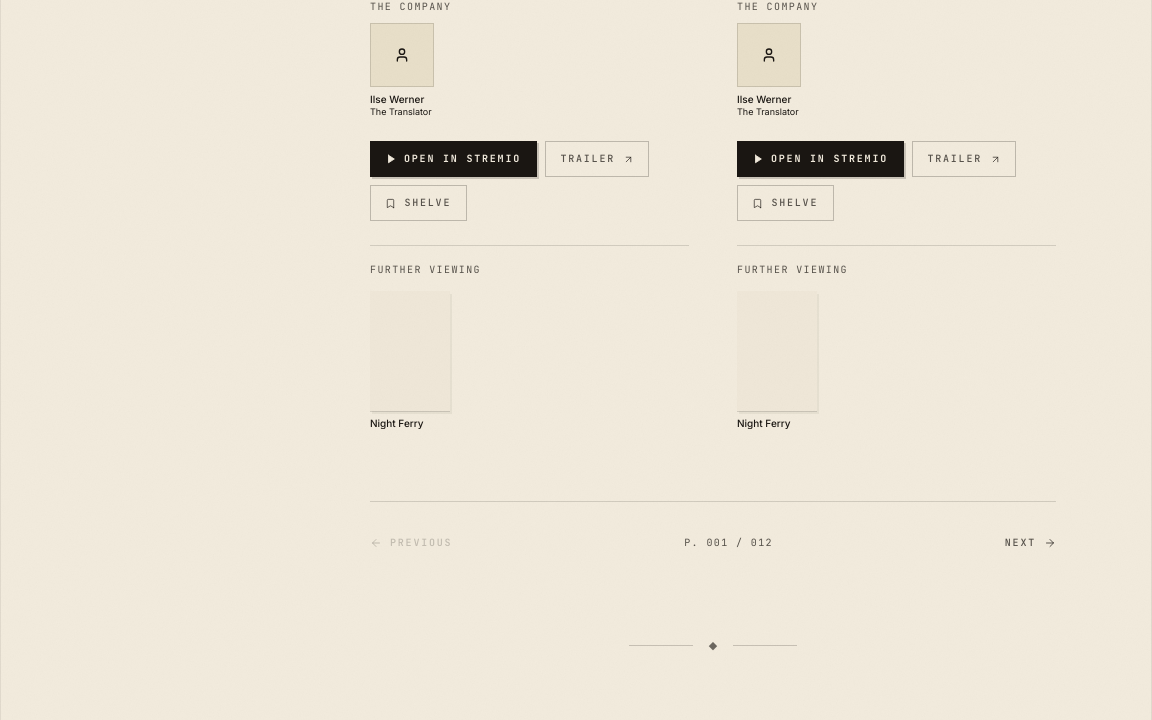
Test: Cabinet › keeps the shelve state with the title on screen after a drill-down
This screenshot has width=1152, height=720.
(page scrolled)
Click the button with aria-label "Read the entry for Night Ferry" at (410, 360), box [370,291,450,429]
(page scrolled)
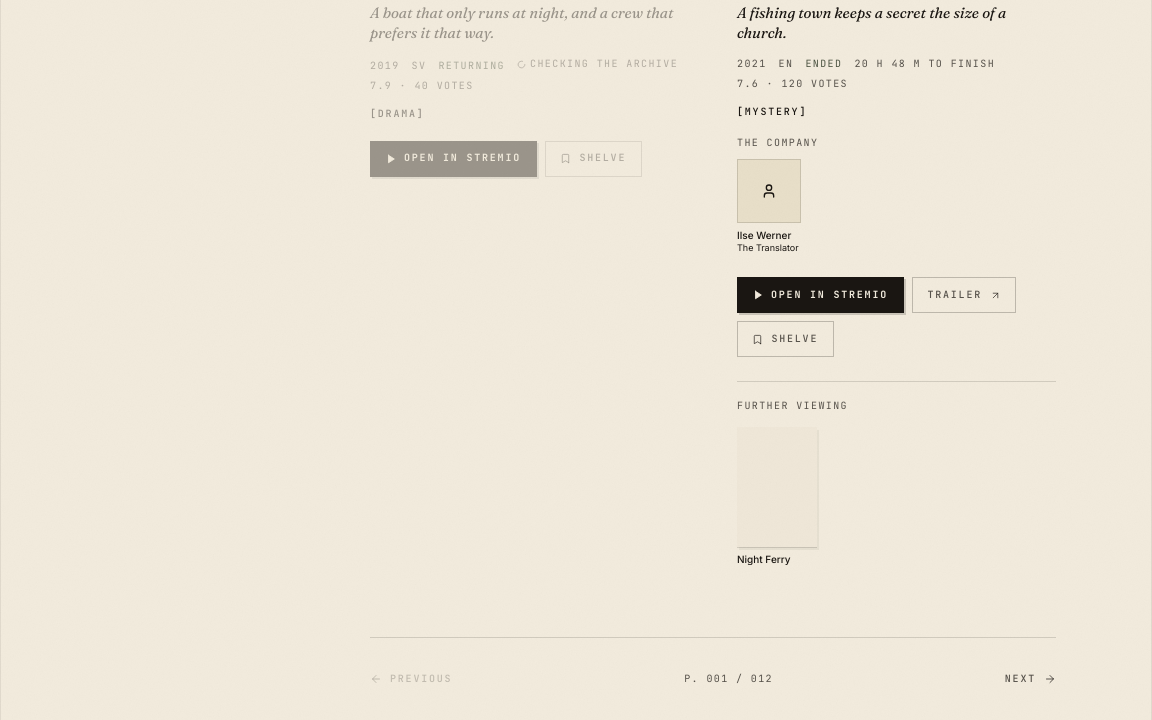
Click the button "Shelve" below "7.9" at (593, 159), box [545,141,642,177]
(page scrolled)
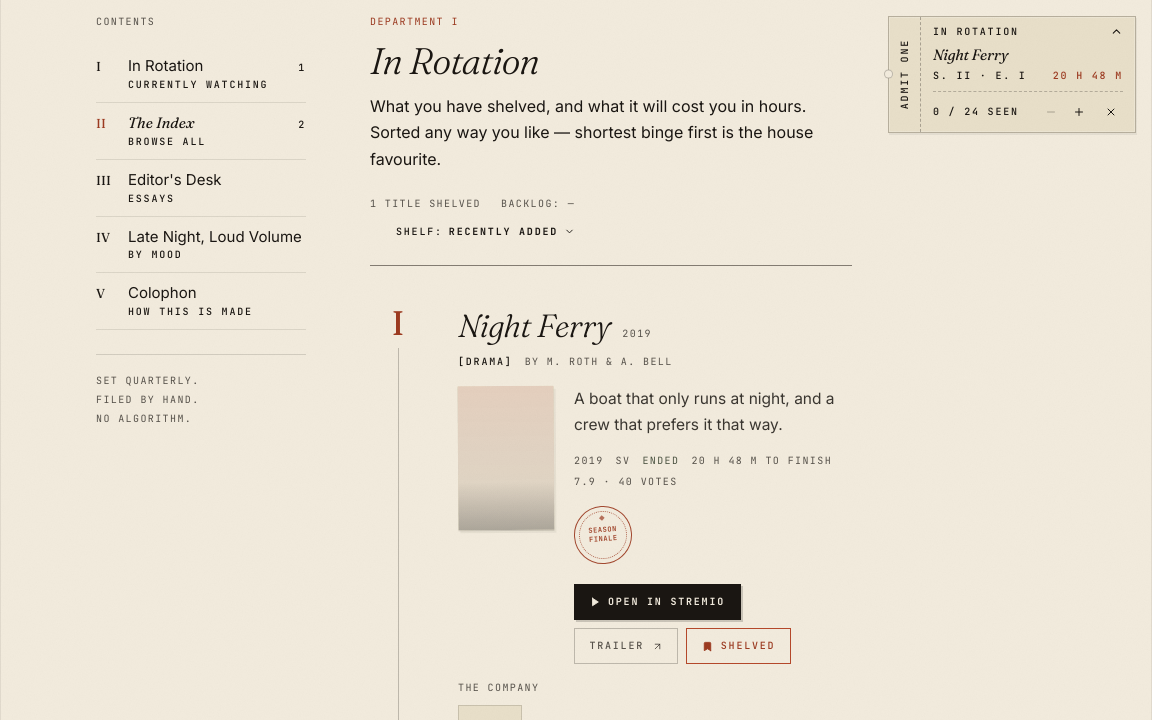
Expected: the button "Shelved" is shown, [686,628,791,664]
Expected: the element "In Rotation" shows "Night Ferry", [458,306,610,345]
